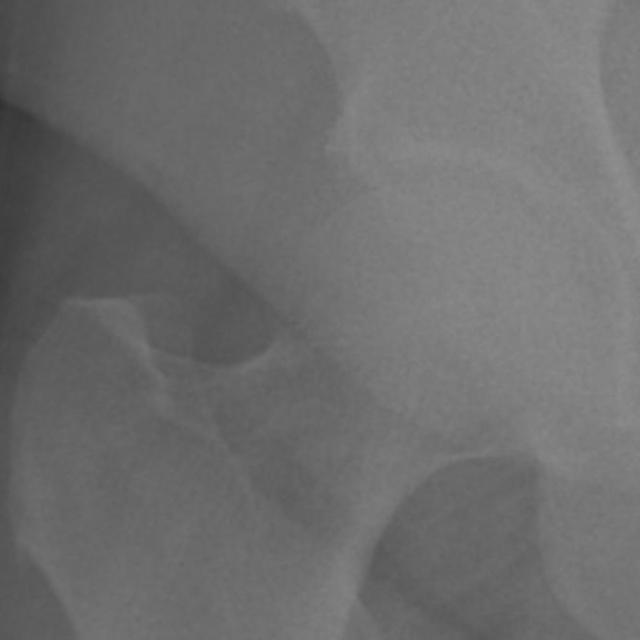Fitted_femural_head: (304, 177, 432, 304)
